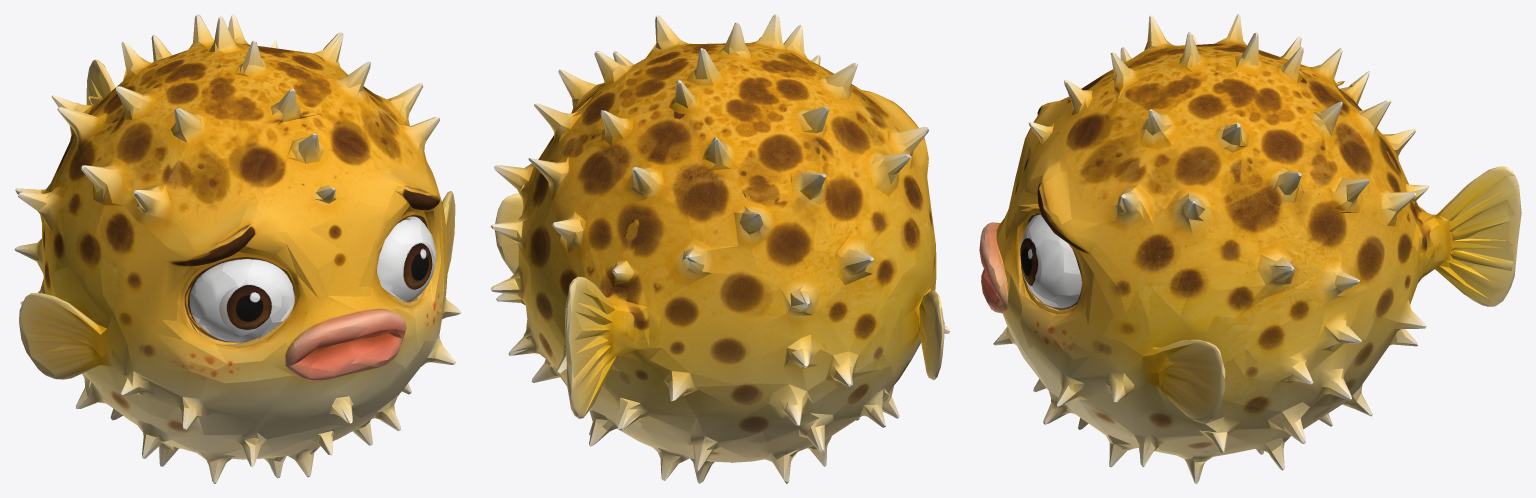
The picture shows the model from 3 angles, left to right: view 1: azimuth 30°, elevation 25°; view 2: azimuth 150°, elevation 25°; view 3: azimuth 270°, elevation 25°; orthographic projection. The views are drawn at different scales.
Visible parts, largest first — view 1: Mesh_0; view 2: Mesh_0; view 3: Mesh_0.
Boxes of the visible parts, <box> form: Mesh_0: <box>14,14,461,483</box>; Mesh_0: <box>490,14,950,483</box>; Mesh_0: <box>979,14,1521,483</box>.
Bounding box in the file's own units: 1.77 × 1.65 × 1.9.
1 material, 1 textured.
